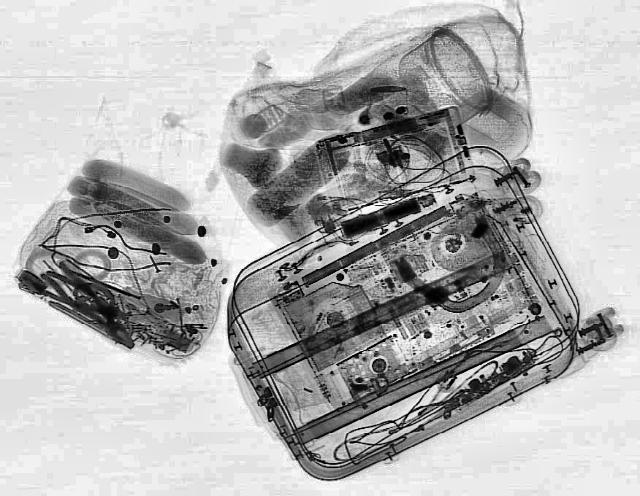Pliers: (33, 261, 147, 353), (27, 254, 141, 332)
